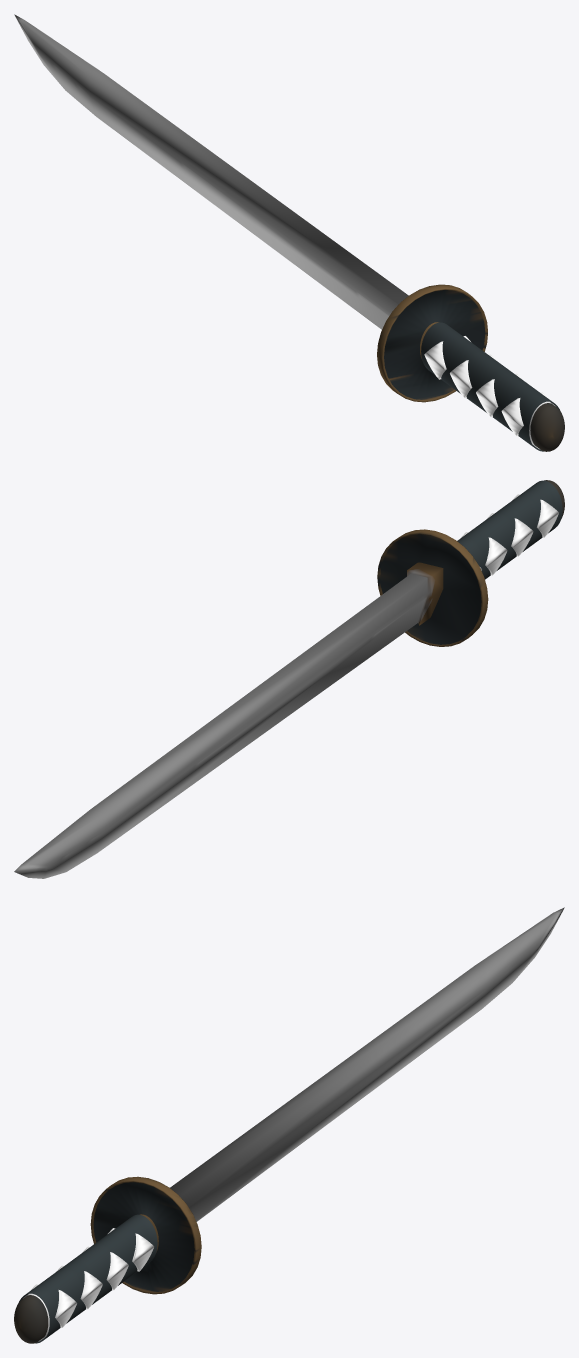
File: Katana.obj
The picture shows the model from 3 angles, top to bottom: view 1: azimuth 30°, elevation 25°; view 2: azimuth 150°, elevation 25°; view 3: azimuth 330°, elevation 25°; orthographic projection.
Visible parts, largest first — view 1: Katana; view 2: Katana; view 3: Katana.
Part boxes in pixels (x1=…): Katana: x1=14, y1=14, x2=564, y2=451; Katana: x1=14, y1=480, x2=564, y2=878; Katana: x1=14, y1=907, x2=564, y2=1343.
Size of the model in its own units: 5.66 by 5.66 by 49.79.
1 material, 1 textured.
